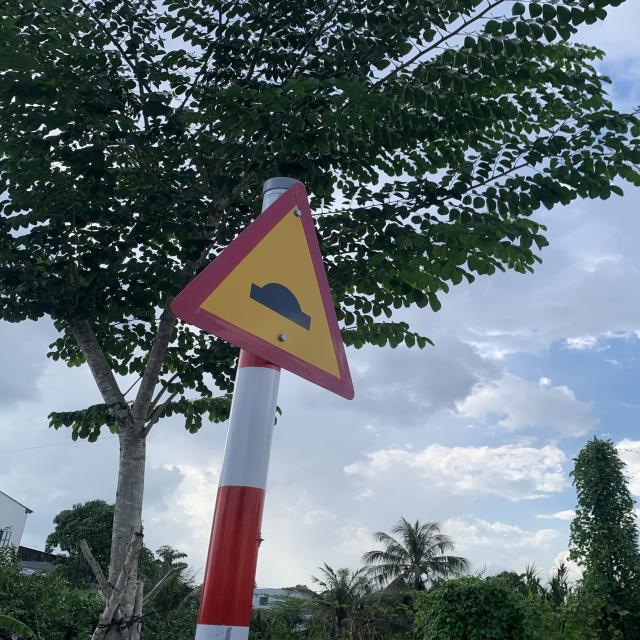Duong_Cong_Ben_Phai: (178, 183, 360, 394)
